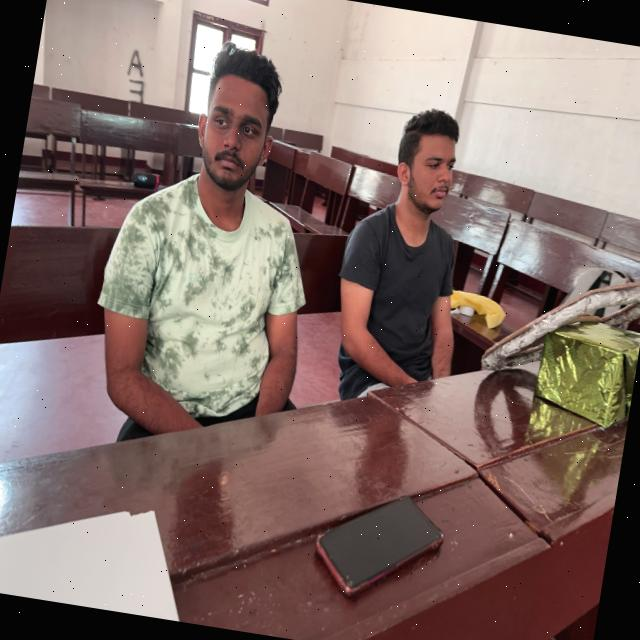no-seatbelt: (77, 175, 320, 480), (324, 204, 466, 428)
